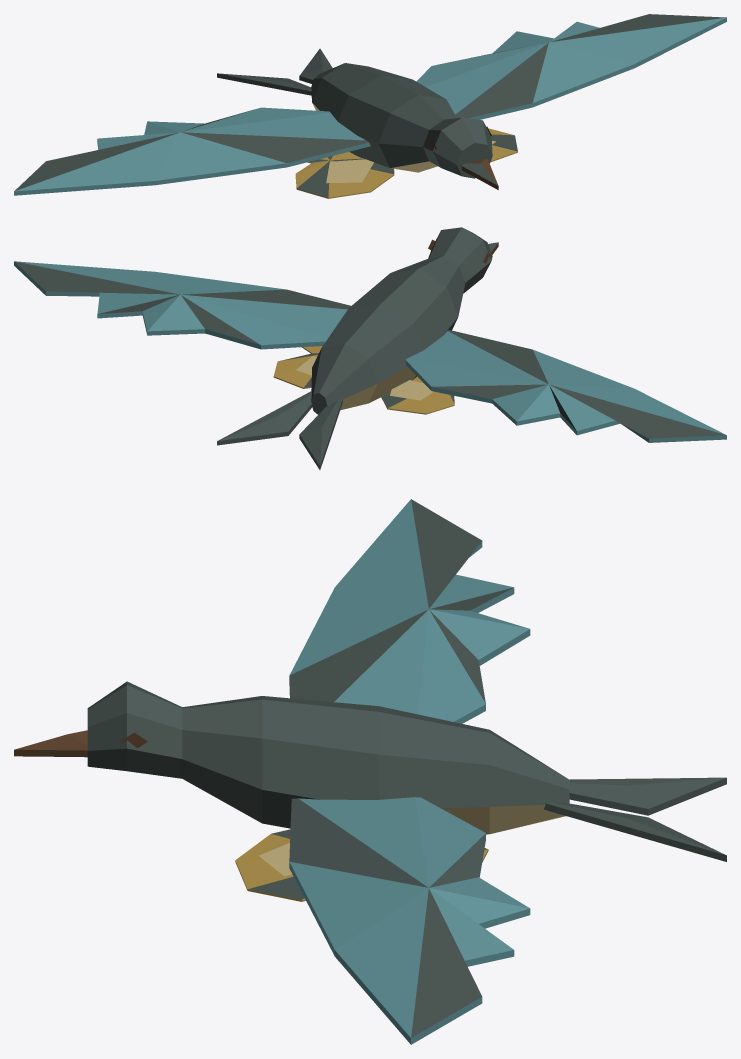
Rendered from riverside-nature-kit.glb.
The picture shows the model from 3 angles, top to bottom: view 1: azimuth 30°, elevation 25°; view 2: azimuth 150°, elevation 25°; view 3: azimuth 270°, elevation 25°; orthographic projection. The views are drawn at different scales.
Parts seen in each view (by area): view 1: GEO-bird-meadow-wing-left, GEO-bird-meadow-wing-right, GEO-bird-meadow-body, GEO-butterfly-meadow-wing-left, GEO-butterfly-meadow-wing-right; view 2: GEO-bird-meadow-body, GEO-bird-meadow-wing-left, GEO-bird-meadow-wing-right, GEO-butterfly-meadow-wing-left, GEO-butterfly-meadow-wing-right; view 3: GEO-bird-meadow-body, GEO-bird-meadow-wing-right, GEO-bird-meadow-wing-left, GEO-butterfly-meadow-wing-right.
Boxes of the visible parts, x1=… form: GEO-bird-meadow-wing-left: x1=14, y1=107, x2=370, y2=195; GEO-bird-meadow-wing-right: x1=416, y1=14, x2=726, y2=119; GEO-bird-meadow-body: x1=217, y1=48, x2=498, y2=189; GEO-butterfly-meadow-wing-left: x1=295, y1=152, x2=394, y2=198; GEO-butterfly-meadow-wing-right: x1=488, y1=128, x2=517, y2=162; GEO-bird-meadow-body: x1=217, y1=227, x2=498, y2=469; GEO-bird-meadow-wing-left: x1=405, y1=330, x2=726, y2=442; GEO-bird-meadow-wing-right: x1=14, y1=261, x2=350, y2=349; GEO-butterfly-meadow-wing-left: x1=381, y1=376, x2=454, y2=414; GEO-butterfly-meadow-wing-right: x1=273, y1=346, x2=322, y2=388; GEO-bird-meadow-body: x1=14, y1=681, x2=726, y2=861; GEO-bird-meadow-wing-right: x1=289, y1=797, x2=530, y2=1044; GEO-bird-meadow-wing-left: x1=289, y1=499, x2=530, y2=723; GEO-butterfly-meadow-wing-right: x1=235, y1=829, x2=488, y2=901.
Size of the model in its own units: 1.04 by 0.138 by 0.58.
